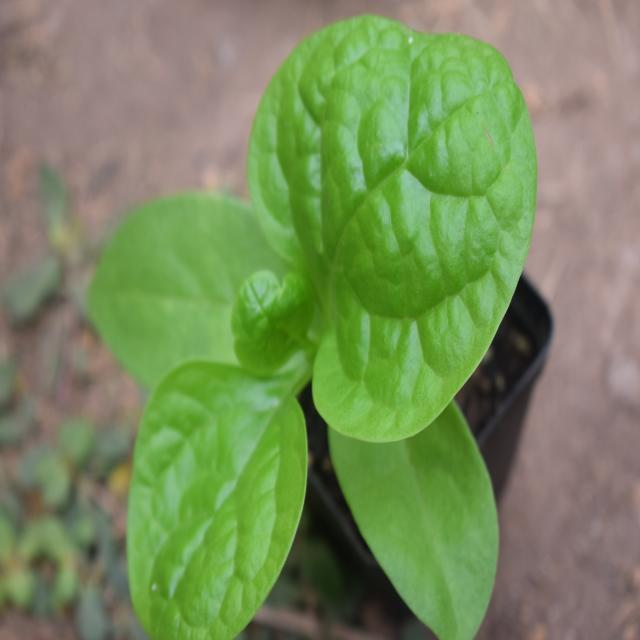Ceylon spinach: (102, 12, 526, 616)
